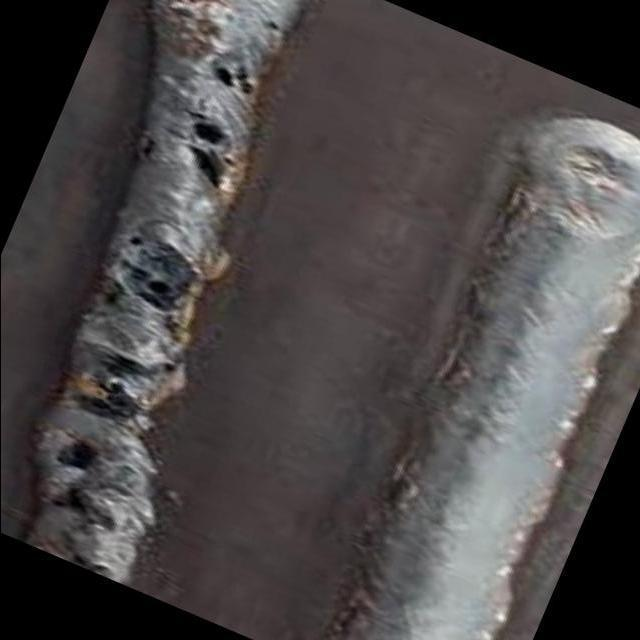defect: (112, 232, 196, 316), (71, 345, 152, 426), (173, 113, 239, 199), (46, 433, 110, 479), (36, 479, 107, 519), (206, 54, 259, 102)
